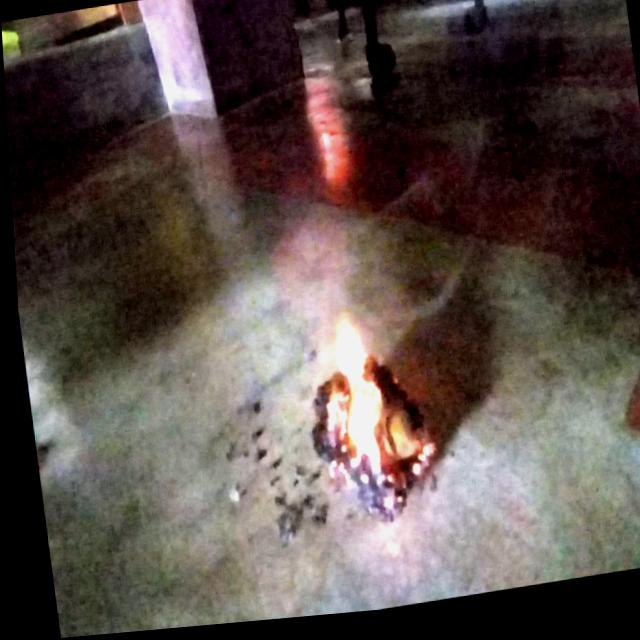helmet: (324, 323, 378, 505)
